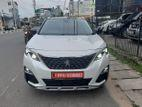car: (24, 16, 109, 91)
